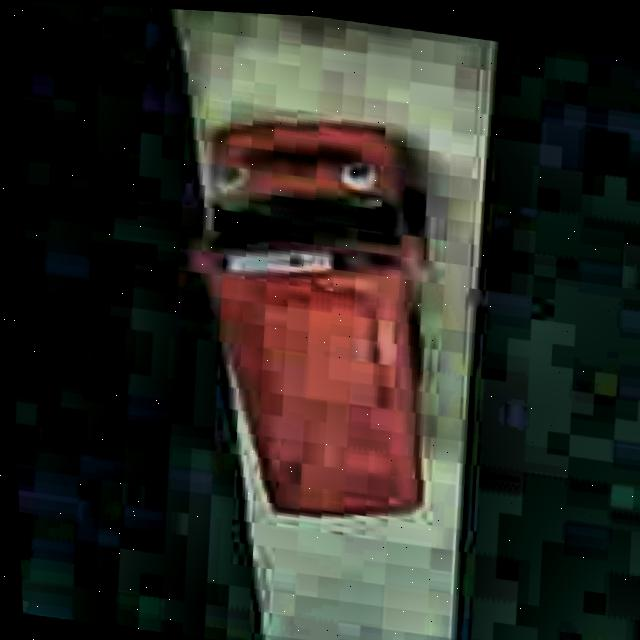bus: (161, 92, 462, 542)
